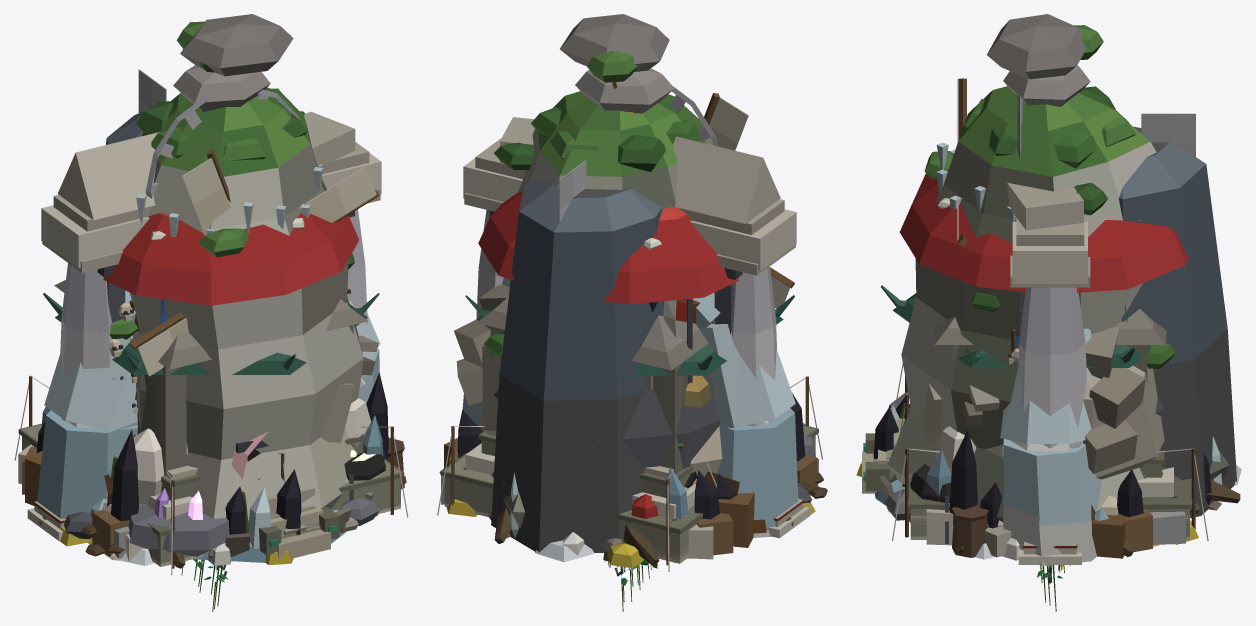
File: themes.glb
The picture shows the model from 3 angles, left to right: view 1: azimuth 30°, elevation 25°; view 2: azimuth 150°, elevation 25°; view 3: azimuth 270°, elevation 25°; orthographic projection. The views are drawn at different scales.
Parts seen in each view (by area): view 1: karst_karst_tower_a, swamp_giant_toadstool_a, ruins_temple_gate_a, peaks_ice_arch_a, volcanic_fumarole_a, meadow_windmill_a, nests_web_gate_a, ossuary_crypt_shrine_a, mines_giant_geode_a, cenote_step_shrine_a, highlands_chorten_great_a, volcanic_fire_shrine_a (+15 smaller); view 2: frozen_frozen_falls_a, karst_karst_tower_a, ruins_temple_gate_a, peaks_ice_arch_a, swamp_giant_toadstool_a, volcanic_fumarole_a, cenote_step_shrine_a, mines_giant_geode_a, nests_web_gate_a, ossuary_crypt_shrine_a, ruins_colossus_head_a, volcanic_fire_shrine_a (+15 smaller); view 3: karst_karst_tower_a, frozen_frozen_falls_a, swamp_giant_toadstool_a, ruins_colossus_head_a, peaks_ice_arch_a, ruins_temple_gate_a, nests_web_gate_a, volcanic_fumarole_a, cenote_step_shrine_a, saltflats_salt_arch_a, volcanic_fire_shrine_a, badlands_covered_wagon_a (+14 smaller).
Boxes of the visible parts, <box> form: karst_karst_tower_a: <box>98,21,363,535</box>; swamp_giant_toadstool_a: <box>103,212,358,305</box>; ruins_temple_gate_a: <box>18,111,400,561</box>; peaks_ice_arch_a: <box>37,290,380,518</box>; volcanic_fumarole_a: <box>60,14,293,565</box>; meadow_windmill_a: <box>130,150,379,376</box>; nests_web_gate_a: <box>60,209,367,511</box>; ossuary_crypt_shrine_a: <box>54,280,368,476</box>; mines_giant_geode_a: <box>64,488,379,556</box>; cenote_step_shrine_a: <box>18,423,404,563</box>; highlands_chorten_great_a: <box>22,442,400,566</box>; volcanic_fire_shrine_a: <box>31,372,388,558</box>; frozen_frozen_falls_a: <box>491,181,663,552</box>; karst_karst_tower_a: <box>481,50,712,528</box>; ruins_temple_gate_a: <box>463,117,816,559</box>; peaks_ice_arch_a: <box>462,277,798,529</box>; swamp_giant_toadstool_a: <box>478,192,738,518</box>; volcanic_fumarole_a: <box>446,14,815,568</box>; cenote_step_shrine_a: <box>441,425,818,560</box>; mines_giant_geode_a: <box>494,374,815,503</box>; nests_web_gate_a: <box>476,210,776,426</box>; ossuary_crypt_shrine_a: <box>476,296,708,474</box>; ruins_colossus_head_a: <box>441,284,818,562</box>; volcanic_fire_shrine_a: <box>457,393,805,558</box>; karst_karst_tower_a: <box>877,25,1229,522</box>; frozen_frozen_falls_a: <box>875,126,1236,521</box>; swamp_giant_toadstool_a: <box>899,170,1188,292</box>; ruins_colossus_head_a: <box>922,326,1185,544</box>; peaks_ice_arch_a: <box>1000,328,1101,526</box>; ruins_temple_gate_a: <box>926,183,1090,557</box>; nests_web_gate_a: <box>987,287,1118,526</box>; volcanic_fumarole_a: <box>856,14,1198,557</box>; cenote_step_shrine_a: <box>863,420,1192,536</box>; saltflats_salt_arch_a: <box>1001,440,1133,565</box>; volcanic_fire_shrine_a: <box>873,407,1168,524</box>; badlands_covered_wagon_a: <box>952,505,1152,557</box>.
Size of the model in its own units: 3.24 by 5.4 by 3.17.
